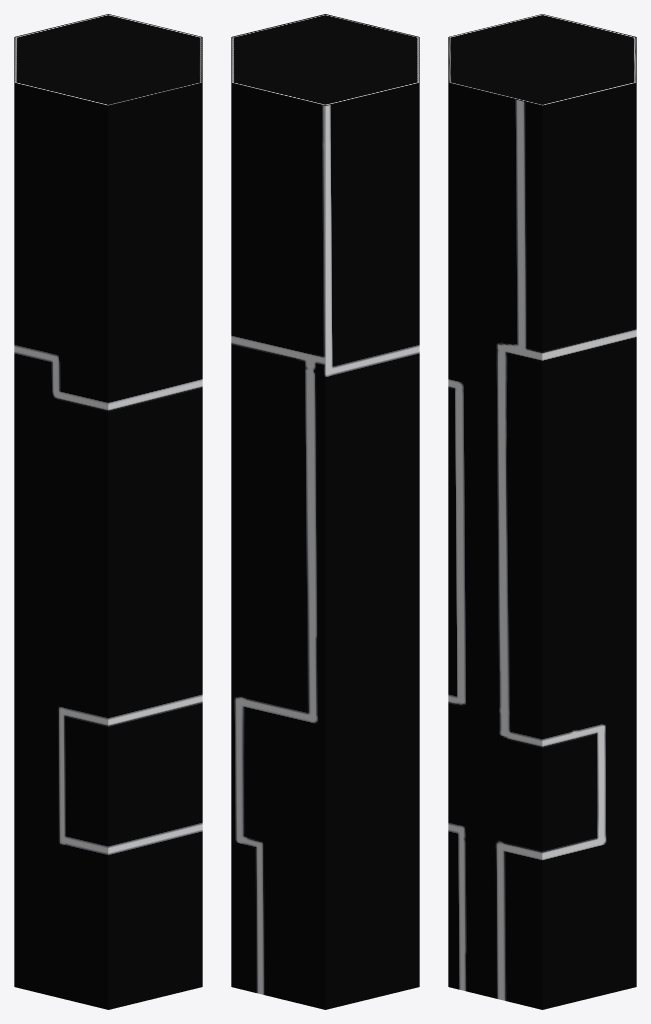
File: Hexa simple.fbx
3 renders of one model, left to right at view 1: azimuth 30°, elevation 25°; view 2: azimuth 150°, elevation 25°; view 3: azimuth 270°, elevation 25°, orthographic.
Visible parts, largest first — view 1: pCylinder33; view 2: pCylinder33; view 3: pCylinder33.
Boxes of the visible parts, x1,y1,x2,y2 form: pCylinder33: (14, 14, 202, 1009); pCylinder33: (231, 14, 419, 1009); pCylinder33: (448, 14, 636, 1009).
Bounding box in the file's own units: 2 × 9.16 × 1.73.
